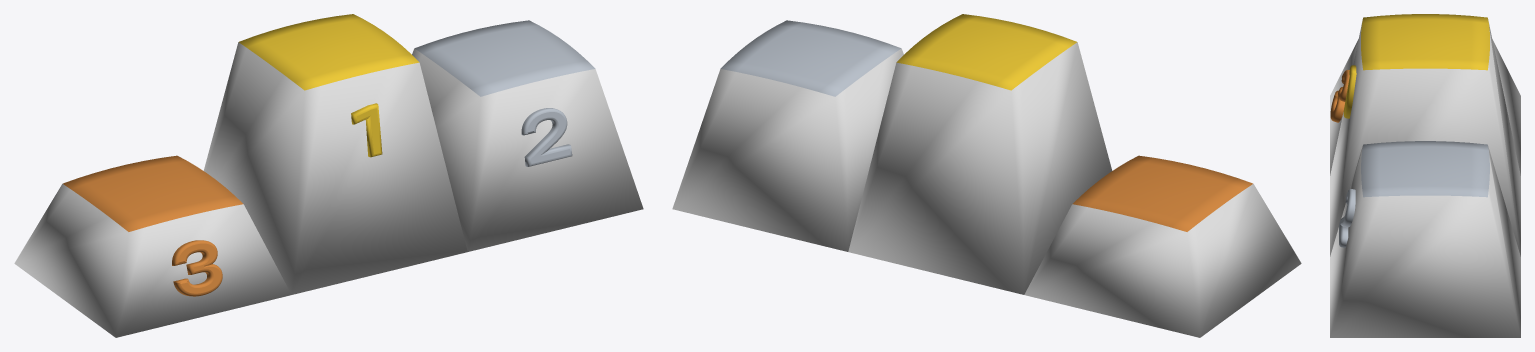
File: podium.glb
The picture shows the model from 3 angles, left to right: view 1: azimuth 30°, elevation 25°; view 2: azimuth 150°, elevation 25°; view 3: azimuth 270°, elevation 25°; orthographic projection. The views are drawn at different scales.
Parts seen in each view (by area): view 1: Cube, Text.002, Text.001, Text; view 2: Cube; view 3: Cube, Text.001, Text.002, Text.
Boxes of the visible parts, x1,y1,x2,y2 form: Cube: (14,14,643,337); Text.002: (172,240,222,296); Text.001: (521,108,572,166); Text: (351,103,382,157); Cube: (672,14,1301,337); Cube: (1330,14,1520,337); Text.001: (1339,189,1355,247); Text.002: (1330,69,1349,122); Text: (1343,65,1356,118).
Size of the model in its own units: 6 by 2.08 by 2.
